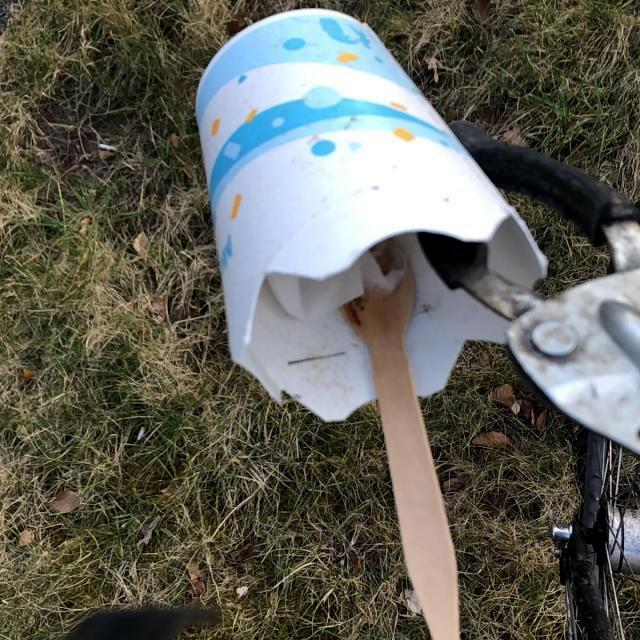Paper: (192, 3, 552, 429)
